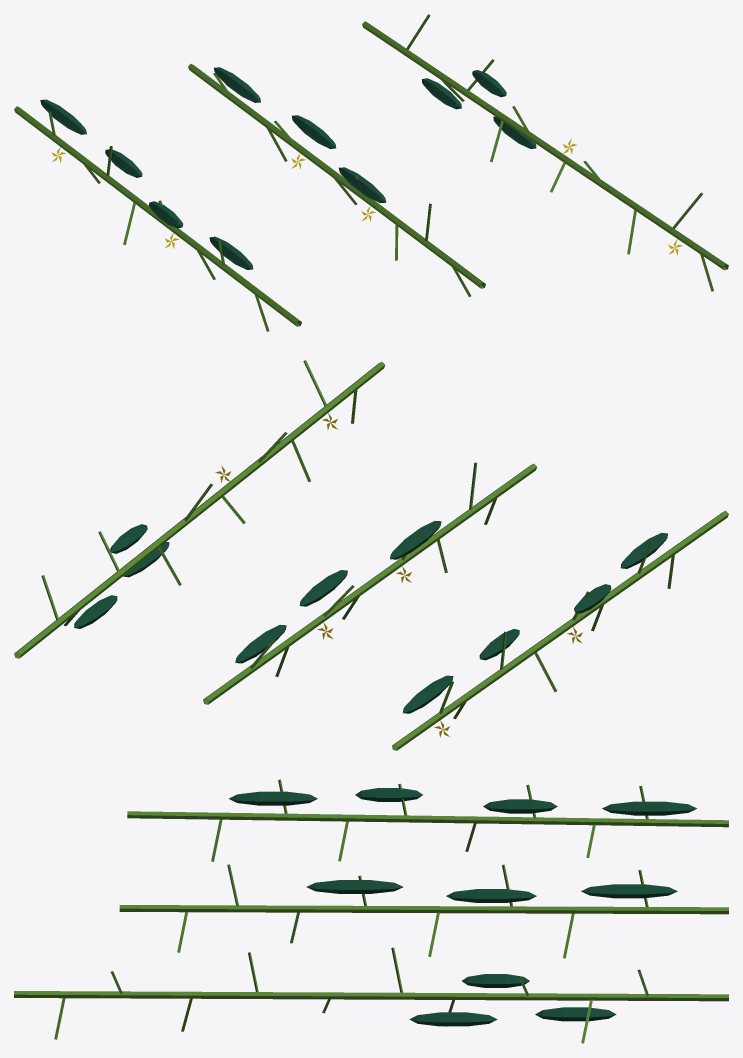
Rendered from r26c4_stems.obj.
3 renders of one model, top to bottom at view 1: azimuth 30°, elevation 25°; view 2: azimuth 150°, elevation 25°; view 3: azimuth 270°, elevation 25°, orthographic. The views are drawn at different scales.
Visible parts, largest first — view 1: r26c4_stems; view 2: r26c4_stems; view 3: r26c4_stems.
Part boxes in pixels (bbox=[...]): r26c4_stems: bbox=[14, 14, 728, 331]; r26c4_stems: bbox=[14, 360, 728, 750]; r26c4_stems: bbox=[14, 779, 728, 1043].
Bounding box in the file's own units: 1.43 × 0.2781 × 2.12.
